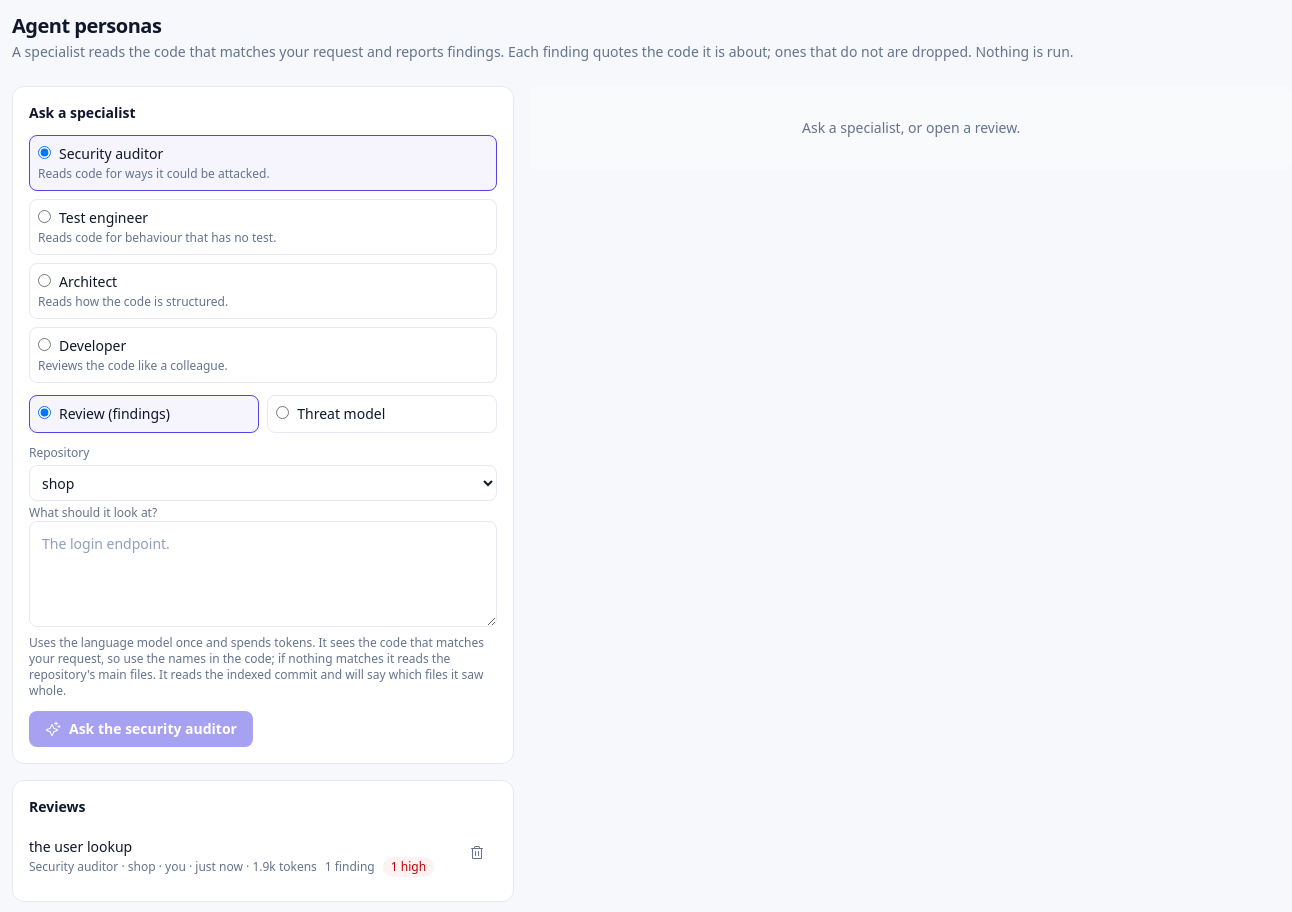
it: Agent personas › does not say a clean review means nothing is wrong
Step 1. Click the button "the user lookup" → x=241, y=857, box [29,829,453,885]
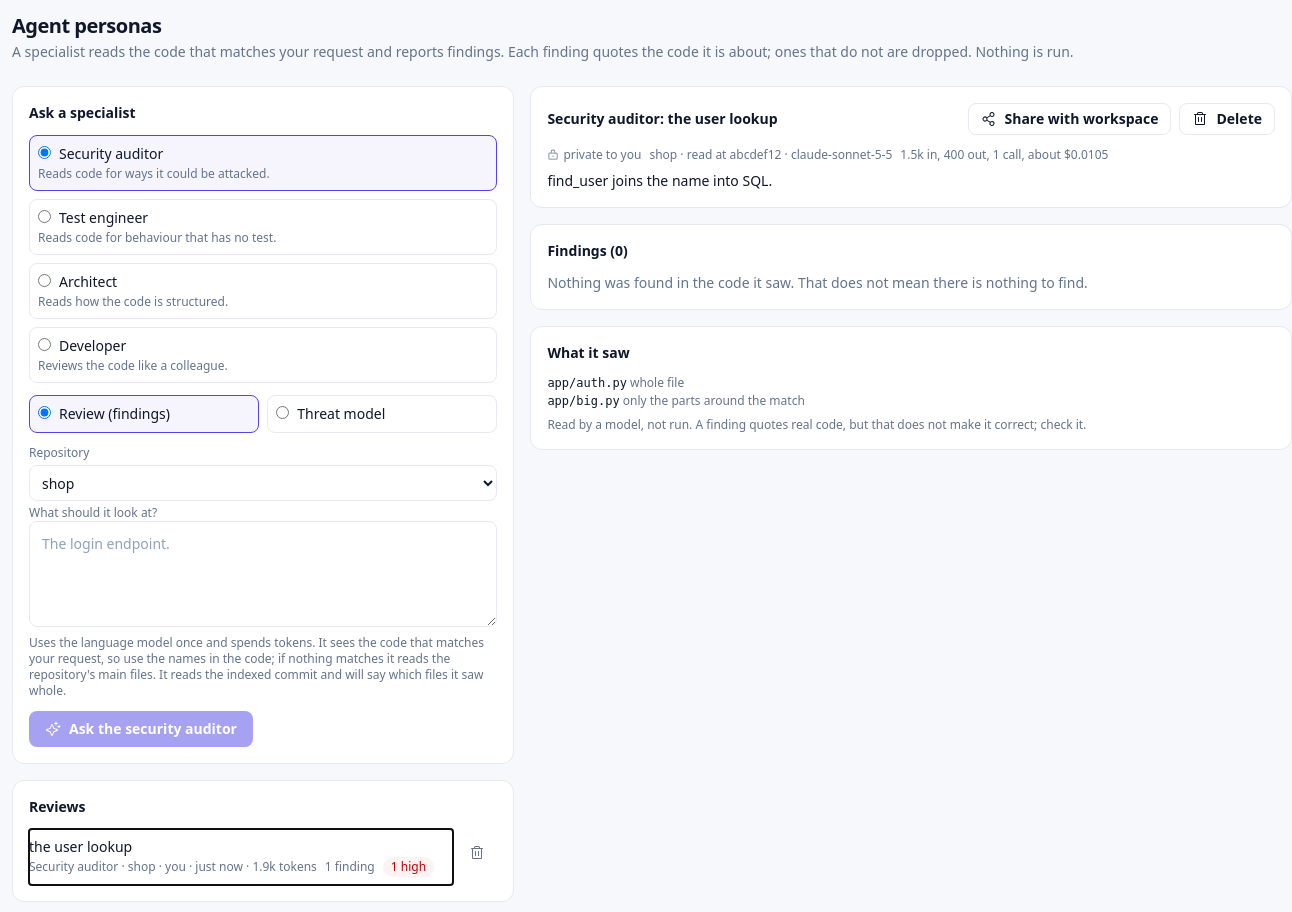
Check: the text "does not mean there is nothing to find" is shown, box [547,273,1088,292]
